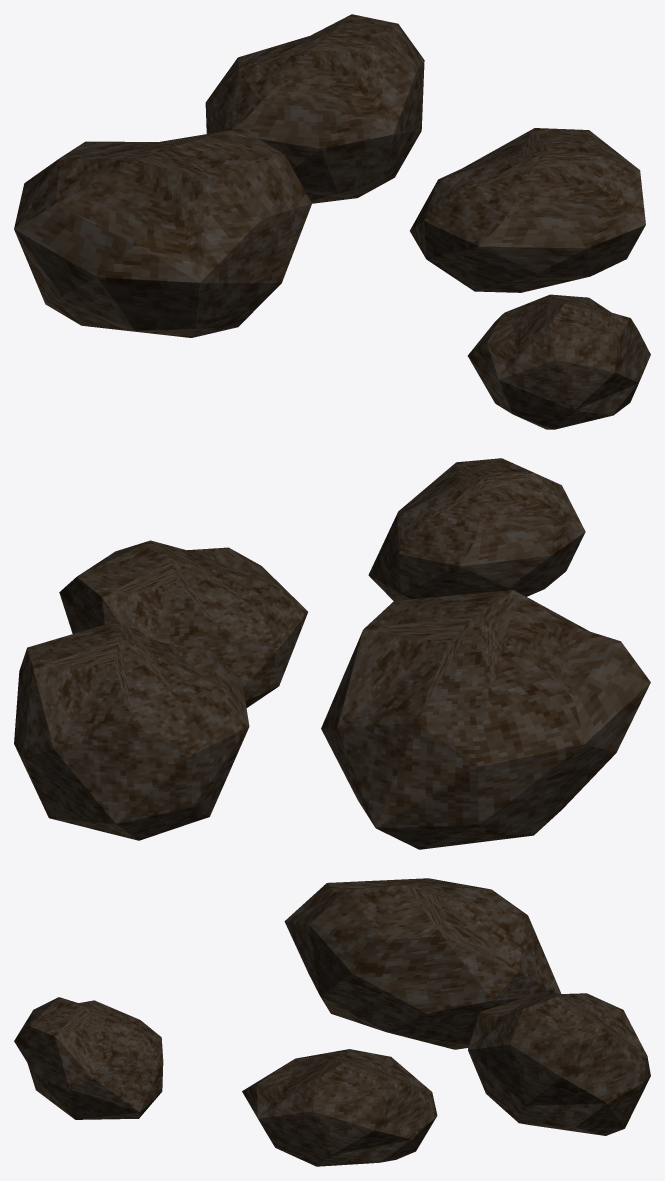
File: cave-stone3.glb
3 renders of one model, top to bottom at view 1: azimuth 30°, elevation 25°; view 2: azimuth 150°, elevation 25°; view 3: azimuth 270°, elevation 25°, orthographic. The views are drawn at different scales.
Parts seen in each view (by area): view 1: Sphere.003; view 2: Sphere.003; view 3: Sphere.003.
Part boxes in pixels (<box>): Sphere.003: <box>14,14,650,429</box>; Sphere.003: <box>14,458,650,849</box>; Sphere.003: <box>14,878,650,1166</box>.
Size of the model in its own units: 0.3681 by 0.1123 by 0.4528.
Materials: 4 (4 with a texture image).
